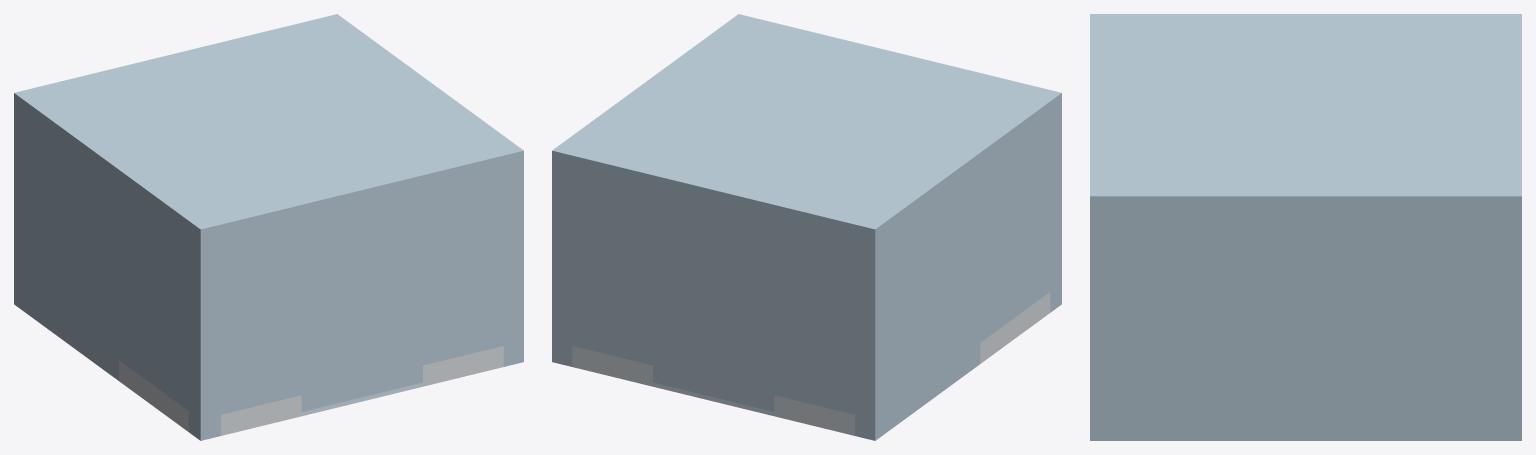
The model's file is frozen-river.glb.
3 views of the same model, side by side, from view 1: azimuth 30°, elevation 25°; view 2: azimuth 150°, elevation 25°; view 3: azimuth 270°, elevation 25° (orthographic). The views are drawn at different scales.
Parts seen in each view (by area): view 1: ice-rock_11, plug_frozen_south, ice-rock_1, plug_ice_west, ice-rock_6, ice-rock_4, ice-rock_2, ice-rock_10, plug_frozen_south.001, snow_1, snow_4, snow_3 (+2 smaller); view 2: ice-rock_11, plug_frozen_north, ice-rock_1, plug_ice_west, ice-rock_5, ice-rock_2, ice-rock_10, ice-rock_4, plug_frozen_north.001, snow_1, snow_2, snow_4 (+1 smaller); view 3: ice-rock_2, ice-rock_11.
Part boxes in pixels (x1,y1,x2,y2): ice-rock_11: (14,14,523,250); plug_frozen_south: (221,198,503,414); ice-rock_1: (14,114,118,380); plug_ice_west: (119,233,188,410); ice-rock_6: (221,177,503,266); ice-rock_4: (189,242,220,440); ice-rock_2: (503,172,523,366); ice-rock_10: (119,191,188,283); plug_frozen_south.001: (301,365,422,411); snow_1: (221,395,301,435); snow_4: (119,360,188,431); snow_3: (423,356,463,386); ice-rock_11: (552,14,1061,250); plug_frozen_north: (572,198,854,414); ice-rock_1: (855,174,980,440); plug_ice_west: (980,165,1050,342); ice-rock_5: (572,177,854,266); ice-rock_2: (552,172,572,366); ice-rock_10: (980,123,1050,215); ice-rock_4: (1050,114,1061,312); plug_frozen_north.001: (653,365,774,411); snow_1: (774,395,854,435); snow_2: (572,346,652,386); snow_4: (980,292,1050,363); ice-rock_2: (1090,221,1521,440); ice-rock_11: (1090,14,1521,220).
Bounding box in the file's own units: 8 × 5 × 8.
